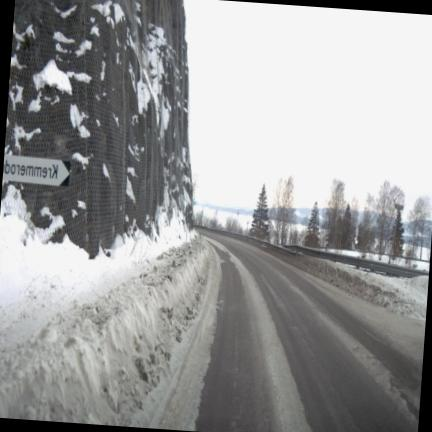Road: (195, 232, 421, 431)
